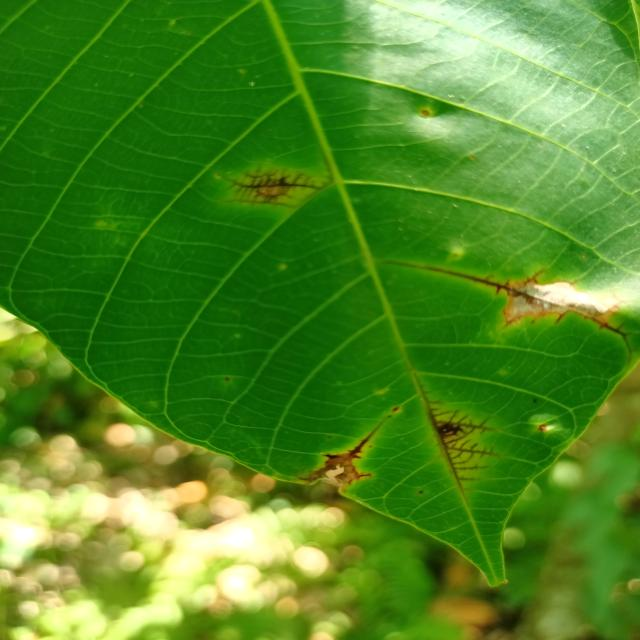Colletotrichum: (421, 109, 430, 116), (539, 424, 545, 431)
Corynespora: (414, 376, 497, 491), (388, 260, 543, 299), (300, 422, 383, 489), (220, 162, 332, 210), (601, 321, 637, 362)
Leaf-Blight: (503, 280, 622, 324)
